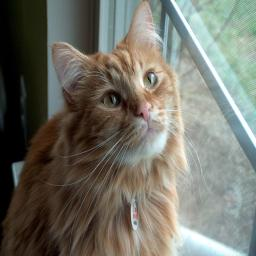catnose: (134, 104, 152, 122)
